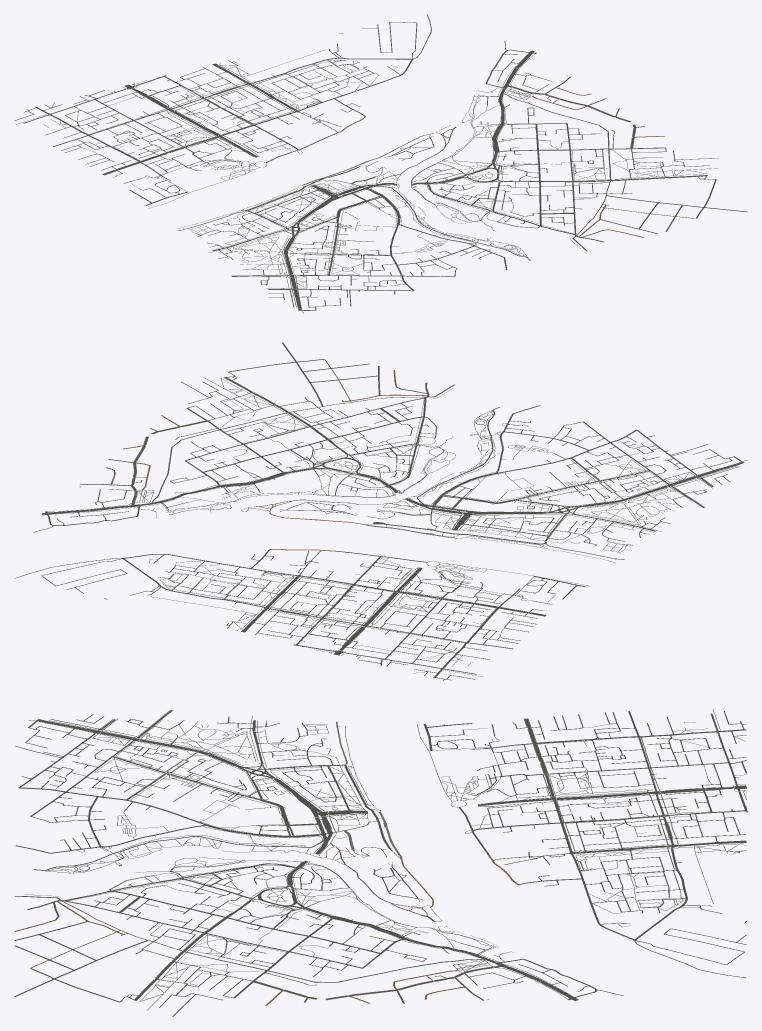
File: roads.glb
3 views of the same model, one above another, from view 1: azimuth 30°, elevation 25°; view 2: azimuth 150°, elevation 25°; view 3: azimuth 270°, elevation 25° (orthographic). The views are drawn at different scales.
Parts seen in each view (by area): view 1: roads_-1_-2, roads_-1_0, roads_0_0, roads_-2_1, roads_-2_0, roads_-2_-2, roads_0_1, roads_1_0, roads_-2_-1, roads_-1_1, roads_0_-2, roads_1_-1 (+3 smaller); view 2: roads_-1_0, roads_-1_-2, roads_0_0, roads_-2_1, roads_-2_0, roads_-2_-2, roads_1_0, roads_0_1, roads_-2_-1, roads_1_-1, roads_-1_1, roads_0_-2 (+4 smaller); view 3: roads_-1_0, roads_-1_-2, roads_0_0, roads_-2_1, roads_-2_0, roads_-2_-2, roads_1_0, roads_0_1, roads_-1_1, roads_1_-1, roads_-2_-1, roads_-1_-1 (+4 smaller).
Part boxes in pixels (x1=…): roads_-1_-2: x1=124, y1=60, x2=319, y2=137; roads_-1_0: x1=242, y1=161, x2=479, y2=242; roads_0_0: x1=375, y1=127, x2=576, y2=221; roads_-2_1: x1=231, y1=240, x2=413, y2=313; roads_-2_0: x1=178, y1=189, x2=336, y2=263; roads_-2_-2: x1=14, y1=86, x2=193, y2=164; roads_0_1: x1=464, y1=183, x2=657, y2=260; roads_1_0: x1=503, y1=93, x2=674, y2=180; roads_-2_-1: x1=90, y1=137, x2=255, y2=209; roads_-1_1: x1=337, y1=217, x2=527, y2=290; roads_0_-2: x1=250, y1=28, x2=413, y2=107; roads_1_-1: x1=473, y1=53, x2=606, y2=127; roads_-1_0: x1=367, y1=435, x2=573, y2=547; roads_-1_-2: x1=225, y1=572, x2=415, y2=655; roads_0_0: x1=226, y1=424, x2=443, y2=509; roads_-2_1: x1=567, y1=429, x2=747, y2=511; roads_-2_0: x1=469, y1=486, x2=670, y2=562; roads_-2_-2: x1=341, y1=601, x2=533, y2=680; roads_1_0: x1=123, y1=398, x2=305, y2=502; roads_0_1: x1=304, y1=366, x2=499, y2=456; roads_-2_-1: x1=404, y1=564, x2=590, y2=624; roads_1_-1: x1=47, y1=459, x2=224, y2=521; roads_-1_1: x1=446, y1=405, x2=636, y2=487; roads_0_-2: x1=75, y1=554, x2=284, y2=612; roads_-1_0: x1=113, y1=765, x2=396, y2=870; roads_-1_-2: x1=555, y1=776, x2=747, y2=874; roads_0_0: x1=161, y1=843, x2=434, y2=944; roads_-2_1: x1=15, y1=710, x2=201, y2=787; roads_-2_0: x1=172, y1=716, x2=367, y2=804; roads_-2_-2: x1=557, y1=709, x2=746, y2=790; roads_1_0: x1=185, y1=935, x2=483, y2=1005; roads_0_1: x1=14, y1=852, x2=209, y2=941; roads_-1_1: x1=16, y1=778, x2=204, y2=870; roads_1_-1: x1=379, y1=939, x2=572, y2=1003; roads_-2_-1: x1=417, y1=716, x2=583, y2=800; roads_-1_-1: x1=379, y1=780, x2=584, y2=864.
Size of the model in its own units: 1993 by 23.71 by 2004.
